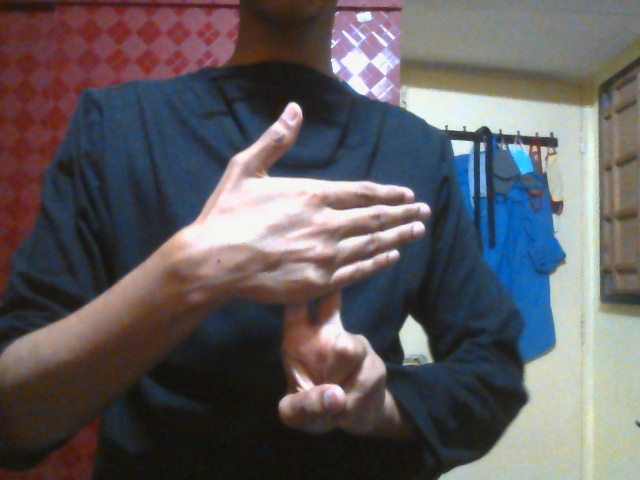N: (204, 103, 434, 440)
